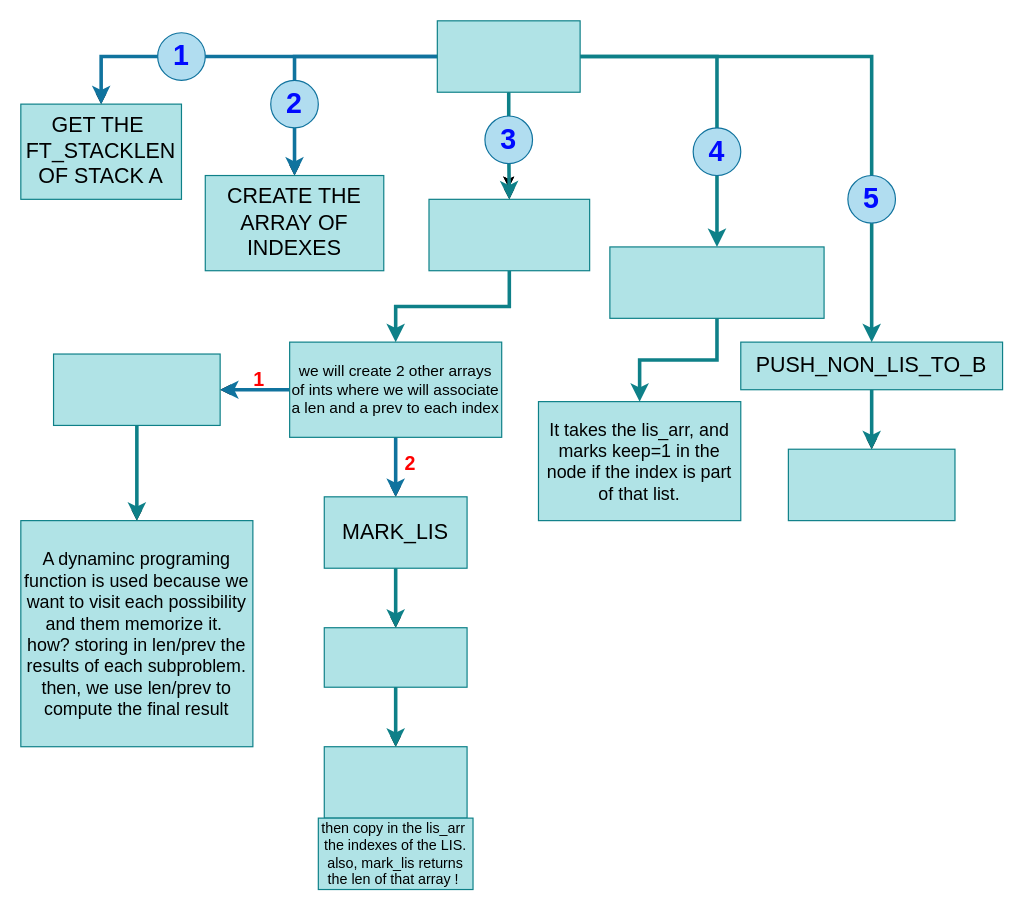
Some shapes in this 1023 by 910 pixel diagram are drawn without their labels. The box of each missing label's shape, as (x1, y1, x2, y2) in pixels:
CREATE THE ARRAY OF IN_LIS: (323, 627, 467, 687)
FIND THE BEST_LEN AND BEST_END: (323, 746, 467, 818)
FIND THE LIS: (428, 198, 590, 271)
FT_LIS: (436, 20, 580, 92)
LIS_DP (the actual algo): (52, 353, 220, 425)
MARKS_LIS_NODES: (609, 246, 824, 318)
What had keep=0 will be moves to stack B: (787, 448, 955, 521)
